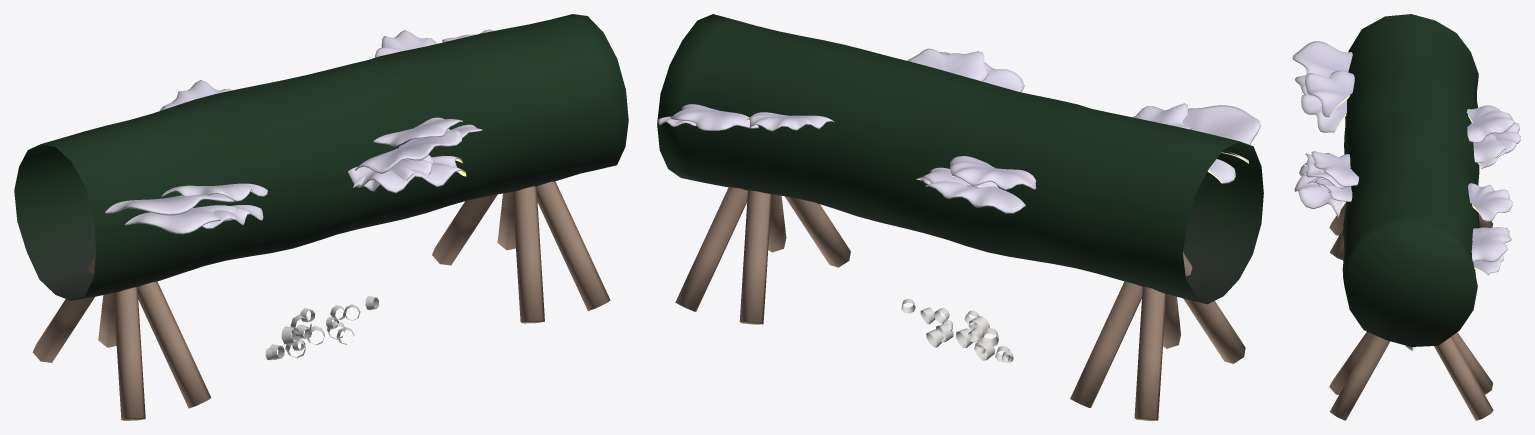
The model's file is mushroom_log.glb.
The picture shows the model from 3 angles, left to right: view 1: azimuth 30°, elevation 25°; view 2: azimuth 150°, elevation 25°; view 3: azimuth 270°, elevation 25°; orthographic projection. The views are drawn at different scales.
Parts seen in each view (by area): view 1: MushroomLog; view 2: MushroomLog; view 3: MushroomLog.
Part boxes in pixels (left/top/right/bottom): MushroomLog: left=14, top=14, right=628, bottom=420; MushroomLog: left=657, top=14, right=1263, bottom=420; MushroomLog: left=1292, top=14, right=1520, bottom=420.
Bounding box in the file's own units: 2.4 × 1.18 × 1.09.
